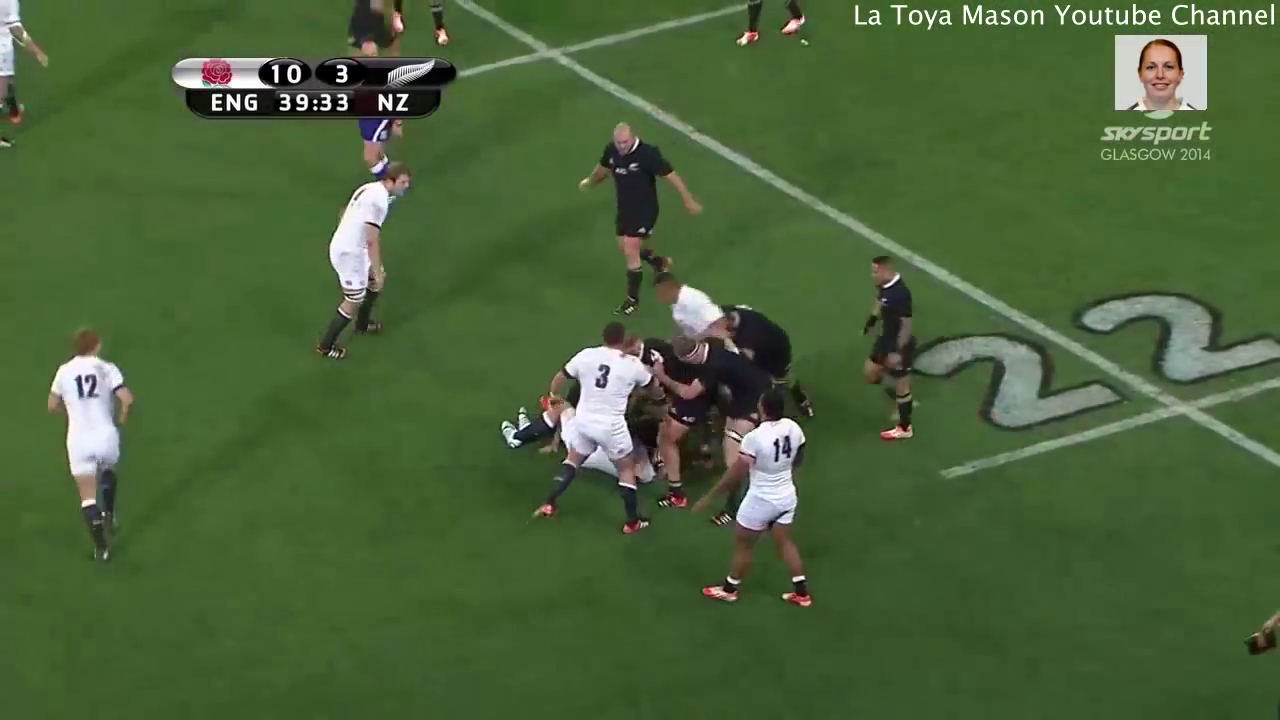player: (525, 316, 655, 538), (698, 386, 821, 616), (575, 119, 698, 324), (313, 153, 423, 370), (48, 316, 138, 564), (845, 247, 938, 460), (731, 304, 822, 419), (1, 1, 54, 156), (666, 339, 754, 431), (649, 278, 729, 334)
ruck: (539, 300, 826, 489)
